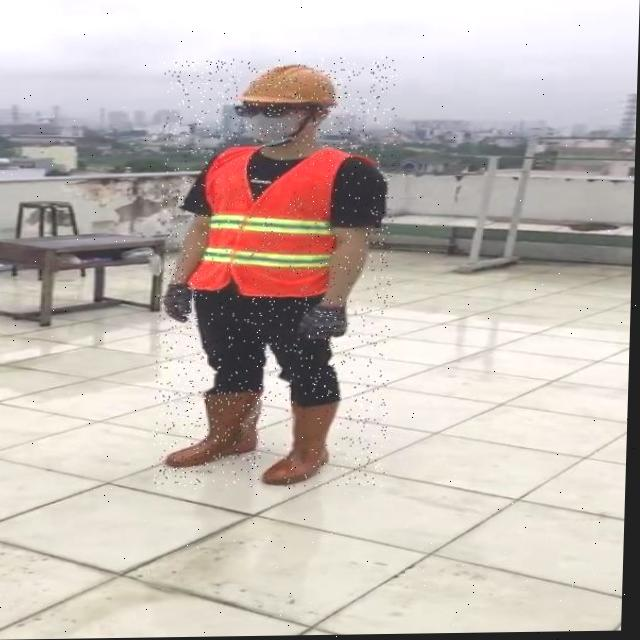Gloves: (299, 303, 351, 341), (166, 283, 195, 323)
Safety-Boot: (168, 386, 267, 468), (266, 400, 342, 486)
Safety-Vest: (184, 142, 382, 301)
